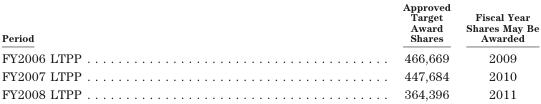table: (0, 0, 538, 100)
table column: (0, 0, 241, 100), (241, 0, 457, 100), (457, 0, 538, 100)
table column header: (0, 0, 538, 46)
table row: (0, 0, 538, 46), (0, 46, 538, 66), (0, 66, 538, 84), (0, 84, 538, 100)
